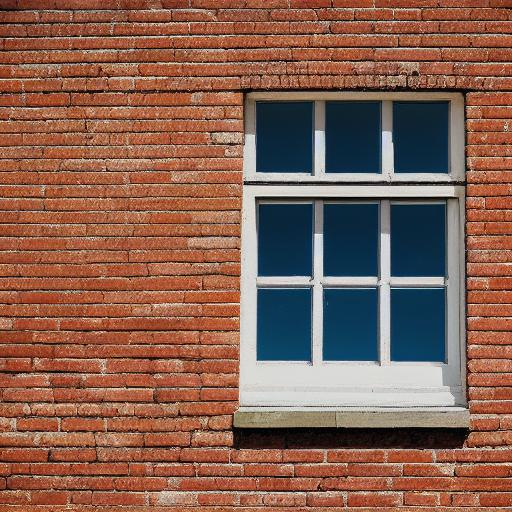Window: (230, 86, 474, 437)
